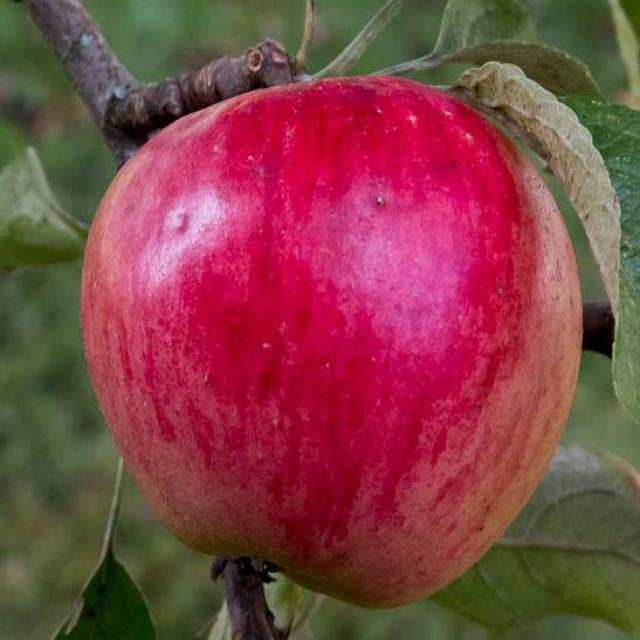Apple: (76, 74, 589, 608)
